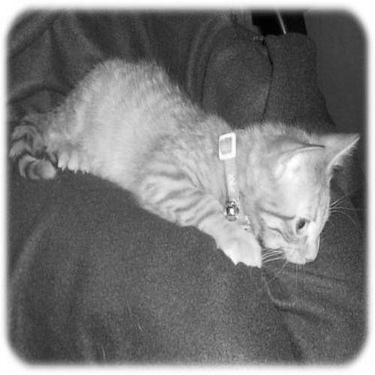cat: (12, 57, 359, 267)
